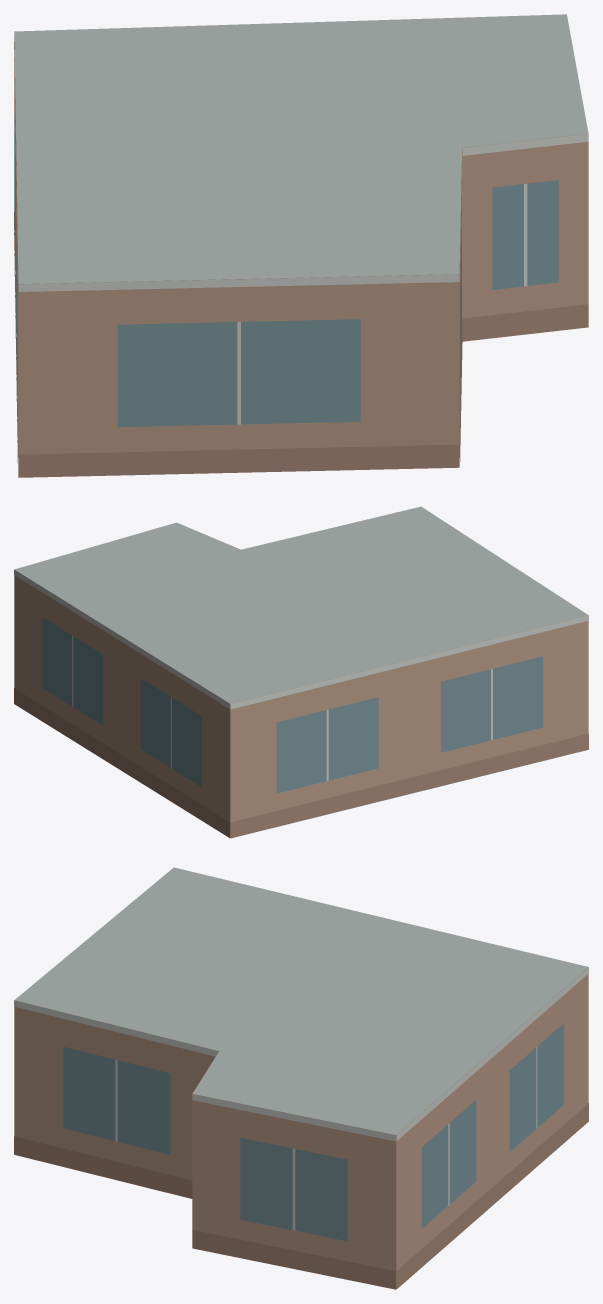
The model's file is survey-upis-32958508.glb.
3 views of the same model, one above another, from view 1: azimuth 30°, elevation 25°; view 2: azimuth 150°, elevation 25°; view 3: azimuth 270°, elevation 25° (orthographic). The views are drawn at different scales.
Visible parts, largest first — view 1: survey-upis-32958508.tmp; view 2: survey-upis-32958508.tmp; view 3: survey-upis-32958508.tmp.
Boxes of the visible parts, x1=… form: survey-upis-32958508.tmp: x1=14, y1=14, x2=588, y2=477; survey-upis-32958508.tmp: x1=14, y1=506, x2=588, y2=838; survey-upis-32958508.tmp: x1=14, y1=867, x2=588, y2=1289.
Size of the model in its own units: 11.35 by 3.05 by 10.29.
